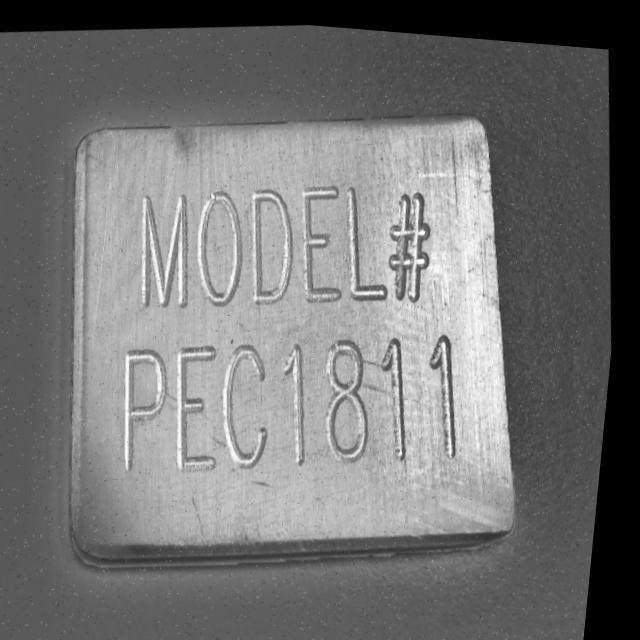ocr: (91, 143, 497, 516)
